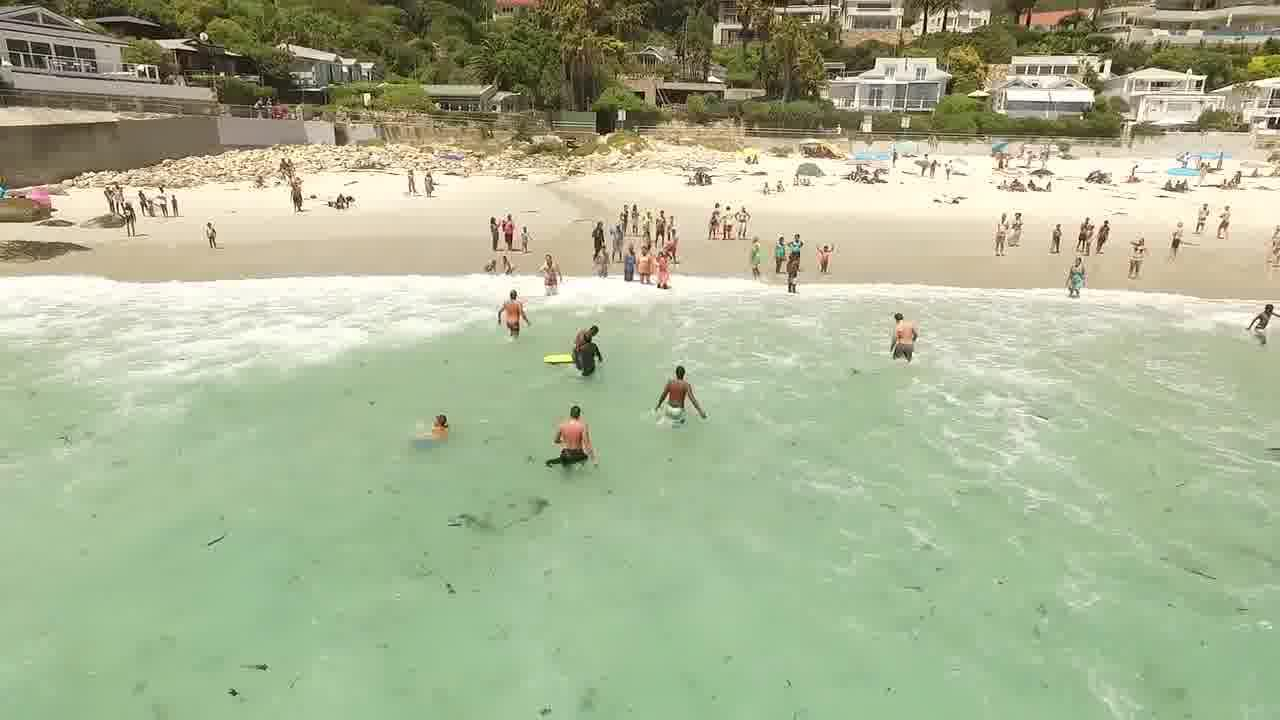human: (652, 355, 718, 433), (546, 395, 601, 458), (886, 301, 931, 365), (532, 246, 584, 294), (1244, 285, 1280, 349), (571, 318, 606, 377), (1049, 249, 1095, 289), (491, 282, 531, 324), (416, 392, 453, 437)
